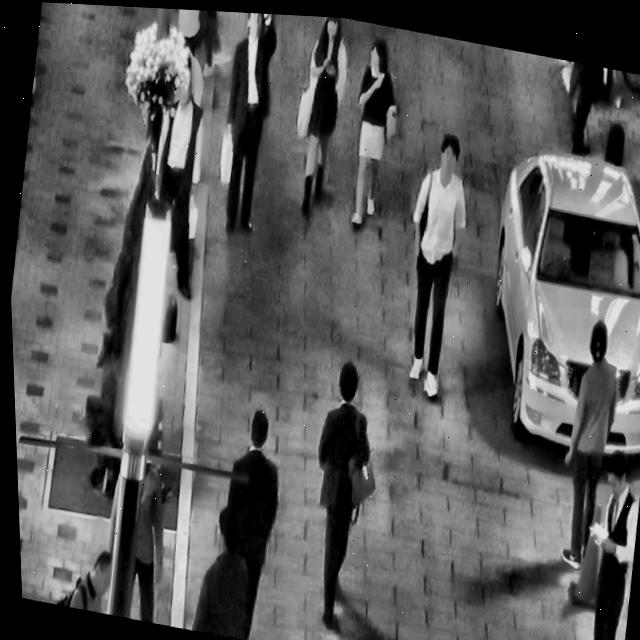light_vehicle: (459, 116, 640, 467)
